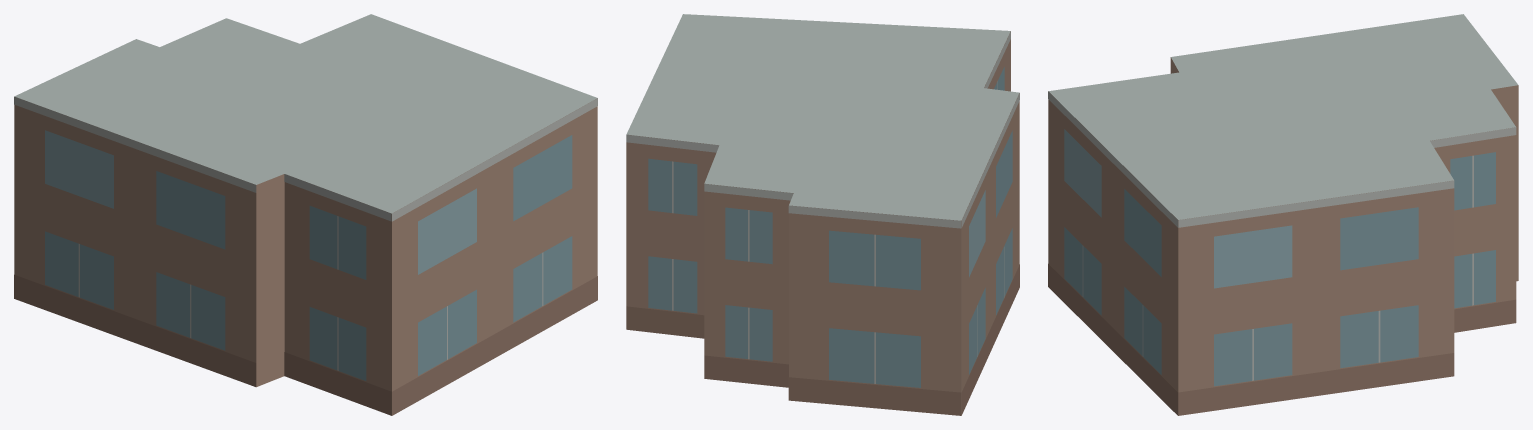
The model's file is survey-upis-32999806.glb.
3 views of the same model, side by side, from view 1: azimuth 30°, elevation 25°; view 2: azimuth 150°, elevation 25°; view 3: azimuth 270°, elevation 25° (orthographic). The views are drawn at different scales.
Visible parts, largest first — view 1: survey-upis-32999806.tmp; view 2: survey-upis-32999806.tmp; view 3: survey-upis-32999806.tmp.
Part boxes in pixels (box(x1,y1,x2,y2)): survey-upis-32999806.tmp: box(14, 14, 597, 415); survey-upis-32999806.tmp: box(626, 14, 1019, 415); survey-upis-32999806.tmp: box(1048, 14, 1518, 415).
Size of the model in its own units: 13.78 by 6.1 by 13.29.
